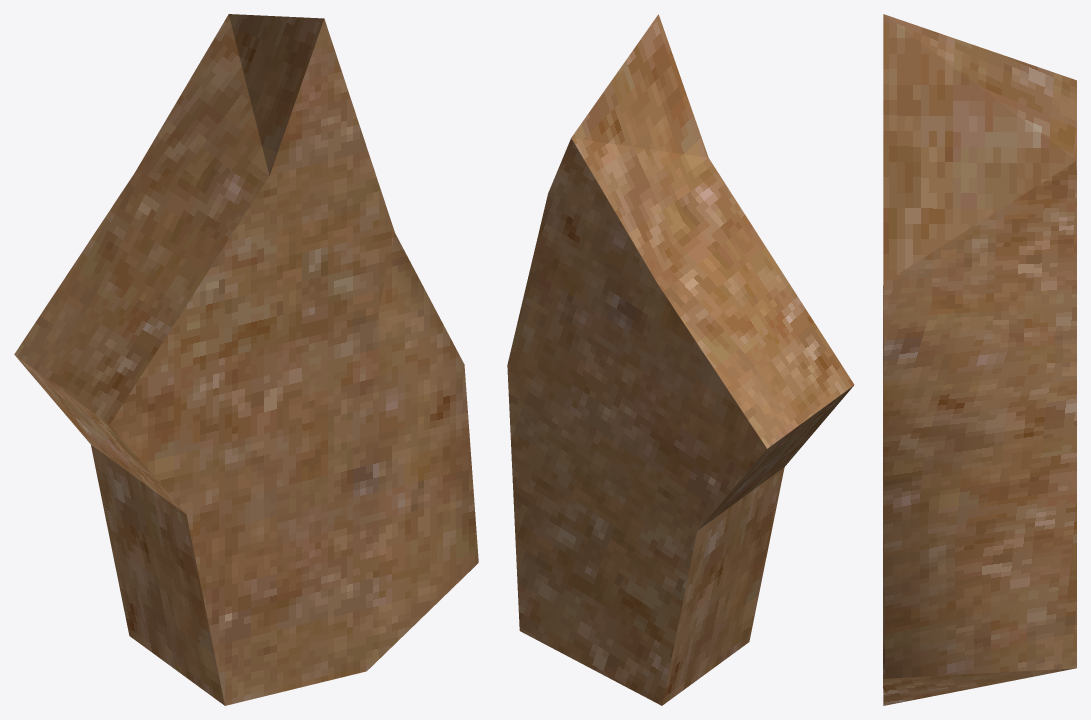
Rendered from stg200_obj_ginger_bp3.obj.
3 views of the same model, side by side, from view 1: azimuth 30°, elevation 25°; view 2: azimuth 150°, elevation 25°; view 3: azimuth 270°, elevation 25° (orthographic). The views are drawn at different scales.
Visible parts, largest first — view 1: polygon0; view 2: polygon0; view 3: polygon0.
Boxes of the visible parts, left/top/right/bottom form: polygon0: left=14, top=14, right=478, bottom=705; polygon0: left=507, top=14, right=854, bottom=705; polygon0: left=883, top=14, right=1076, bottom=705.
Size of the model in its own units: 2.73 by 4.68 by 1.23.
1 material, 1 textured.
